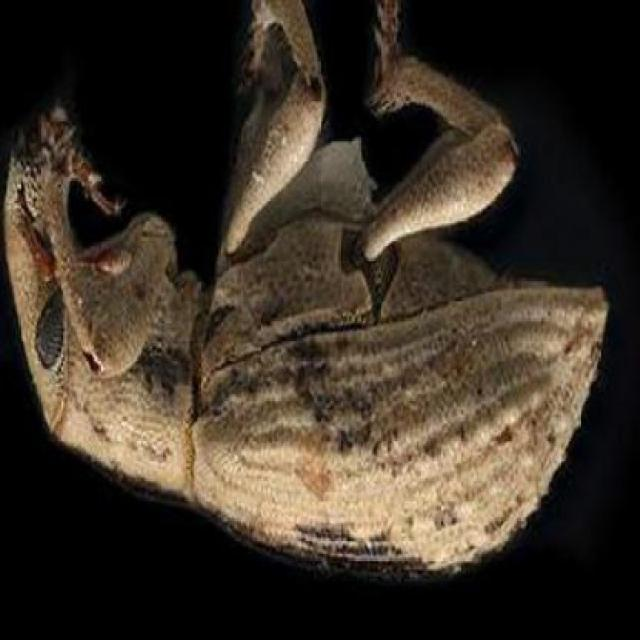rice-bug: (2, 48, 612, 570)
